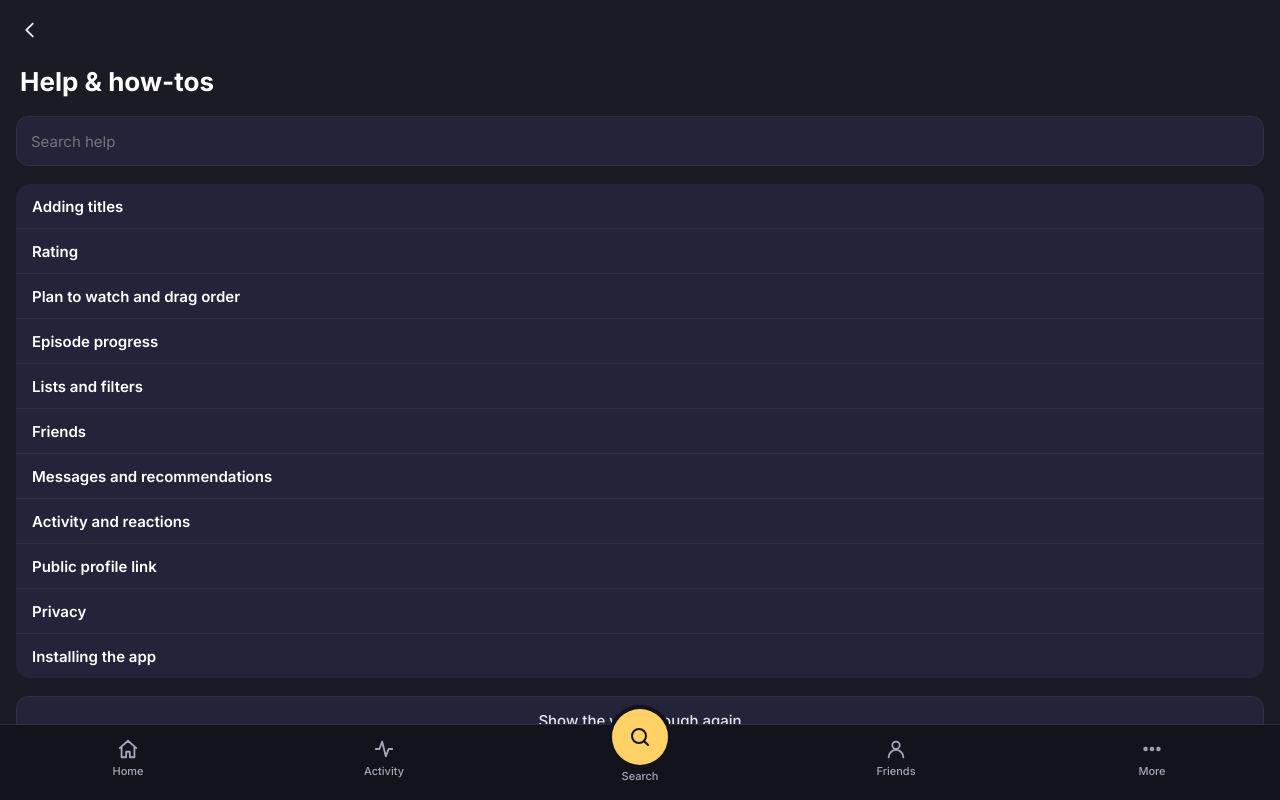
Test: Help & how-tos › search narrows the sections and says when nothing matches
The image size is (1280, 800).
Step 1. Type "spotify" into the search field labelled "Search help" → (640, 141), box [16, 116, 1264, 166]
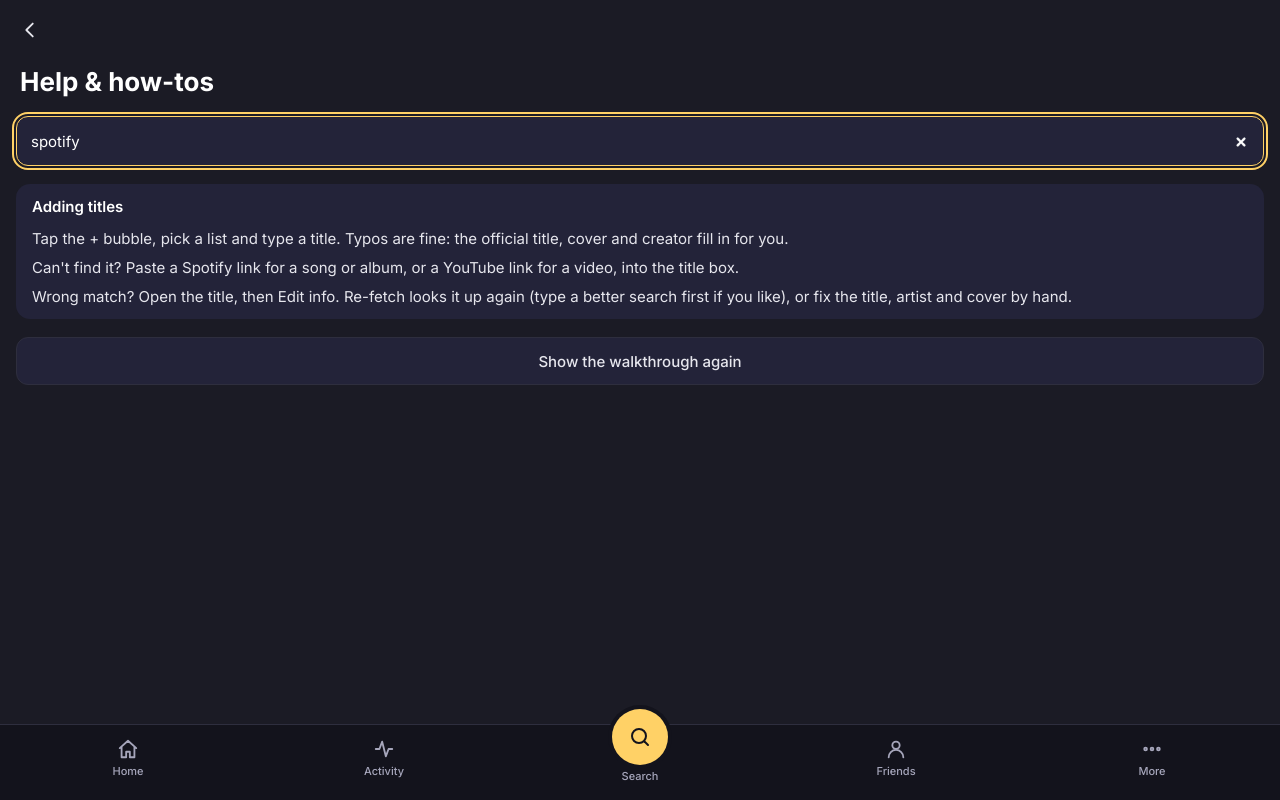
Check: the heading "Adding titles" is shown, box [32, 197, 123, 216]
Step 2. Replace the text in the search field named "Search help" with "zzzzqq" → (640, 141), box [16, 116, 1264, 166]
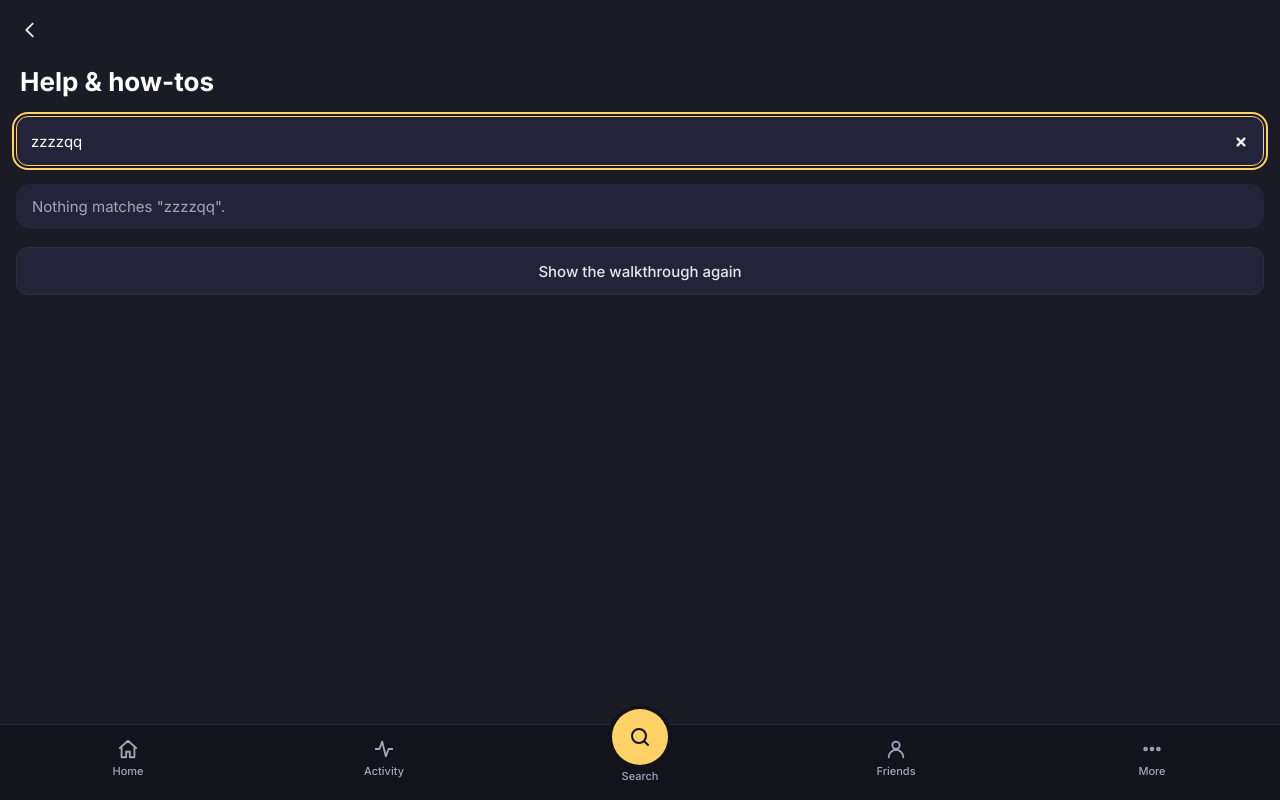
Check: the text "Nothing matches \"zzzzqq\"." is shown, box [32, 197, 225, 216]
